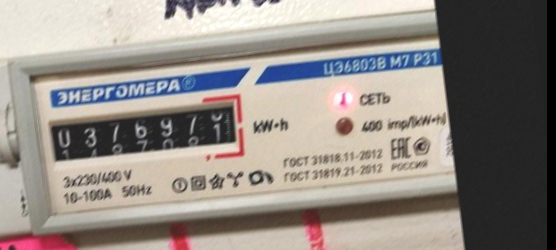0: (54, 125, 73, 148)
1: (211, 121, 224, 143)
3: (81, 124, 98, 149)
6: (133, 116, 148, 138)
7: (107, 118, 123, 144), (184, 111, 199, 135)
9: (158, 114, 173, 137)
screen: (41, 90, 251, 182)
